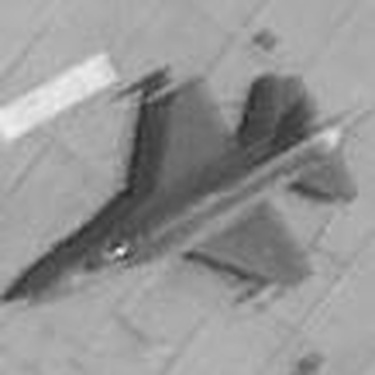airplane: (1, 50, 366, 316)
